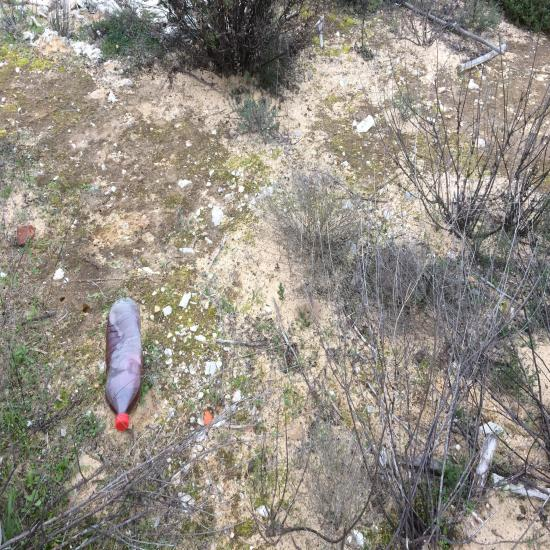Clear plastic bottle: (105, 297, 143, 431)
Plastic bottle cap: (115, 415, 129, 431)
